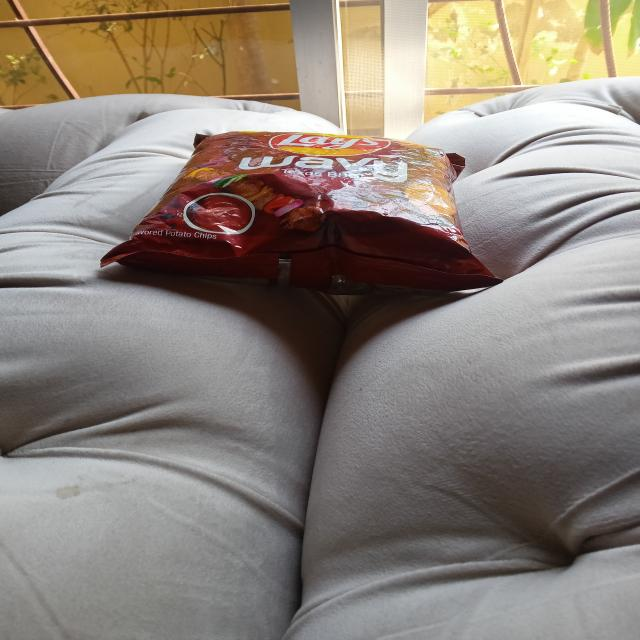Plastic: (105, 131, 502, 293)
